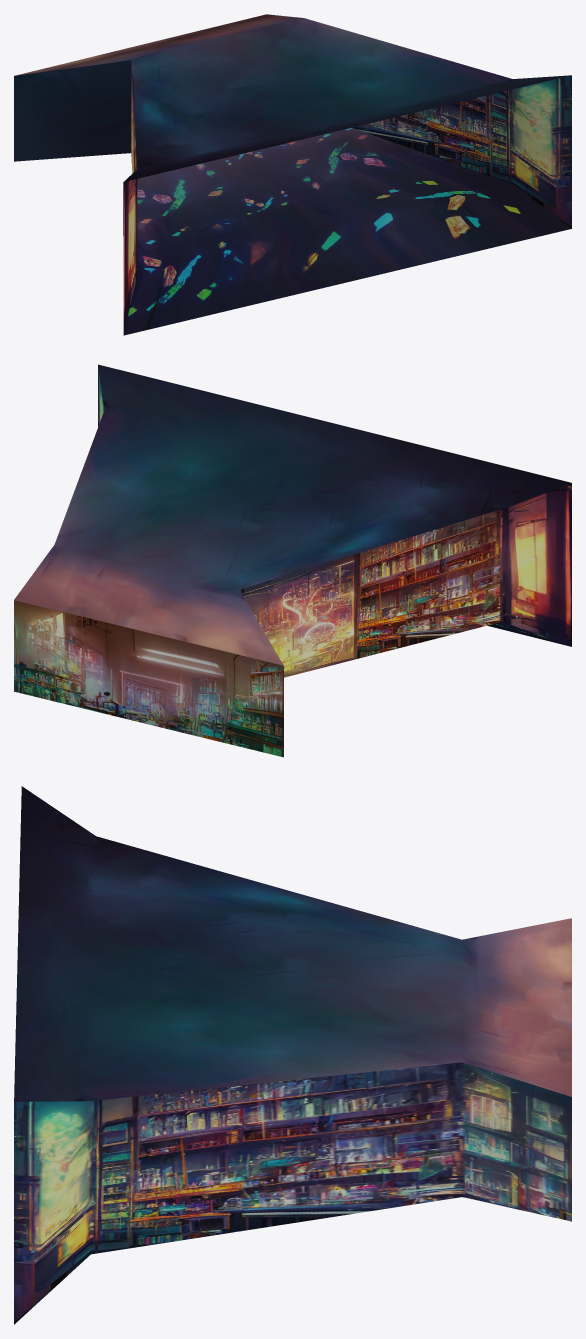
File: stage1test.fbx
The picture shows the model from 3 angles, top to bottom: view 1: azimuth 30°, elevation 25°; view 2: azimuth 150°, elevation 25°; view 3: azimuth 270°, elevation 25°; orthographic projection. The views are drawn at different scales.
Visible parts, largest first — view 1: stage1; view 2: stage1; view 3: stage1.
Boxes of the visible parts, x1=… form: stage1: x1=14, y1=14, x2=571, y2=335; stage1: x1=14, y1=364, x2=571, y2=757; stage1: x1=14, y1=786, x2=571, y2=1324.
Size of the model in its own units: 177 by 58.33 by 132.
1 material, 1 textured.
